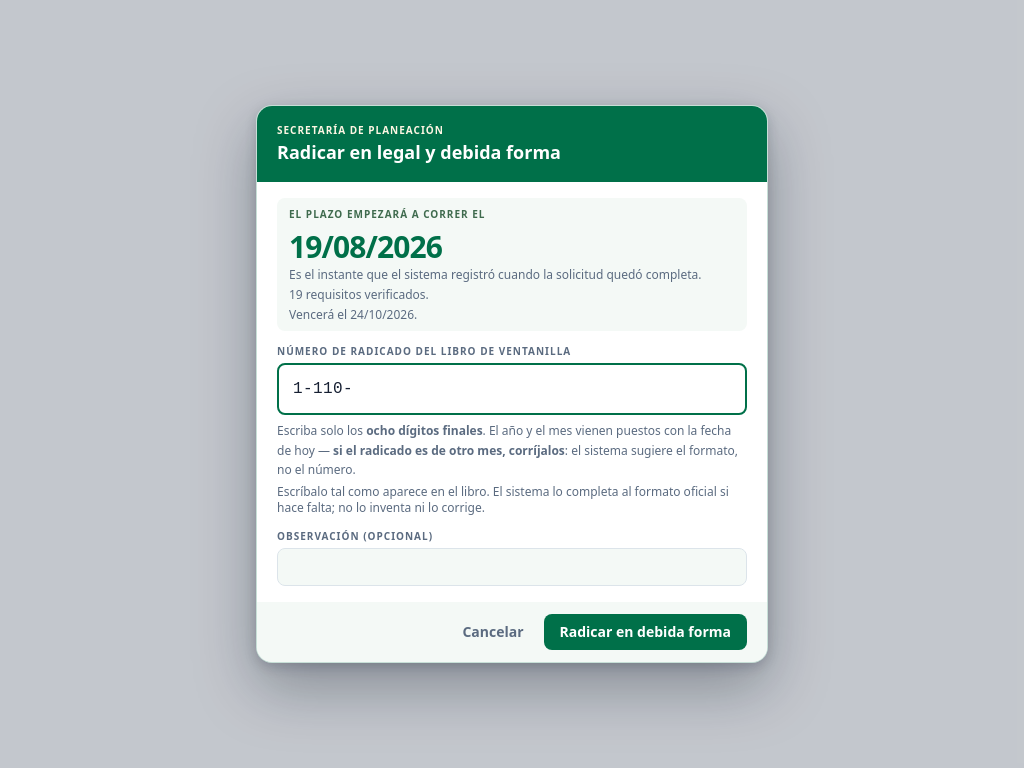
Test: el envío › un error del servidor se muestra TAL CUAL llega
The width and height of the screenshot is (1024, 768).
Step 1. Replace the text in the field labelled "Número de radicado del libro de ventanilla" with "123" → (512, 389), box left=277, top=363, right=747, bottom=415
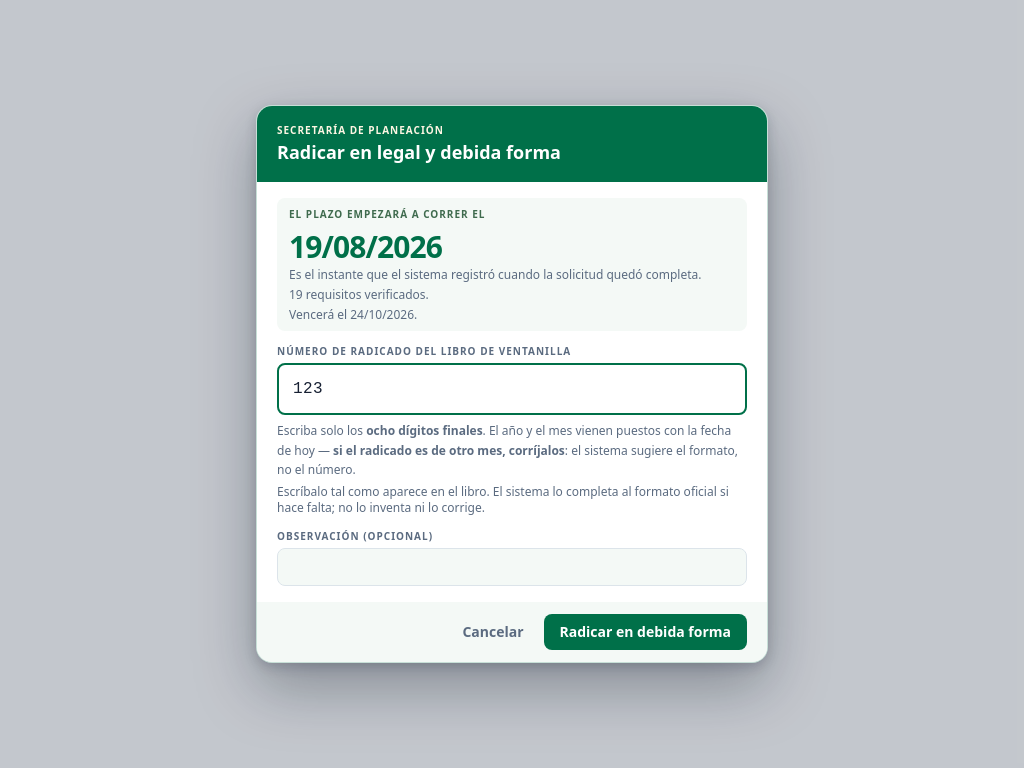
Step 2. Click the button "Radicar en debida forma" → (645, 632), box left=544, top=614, right=747, bottom=650
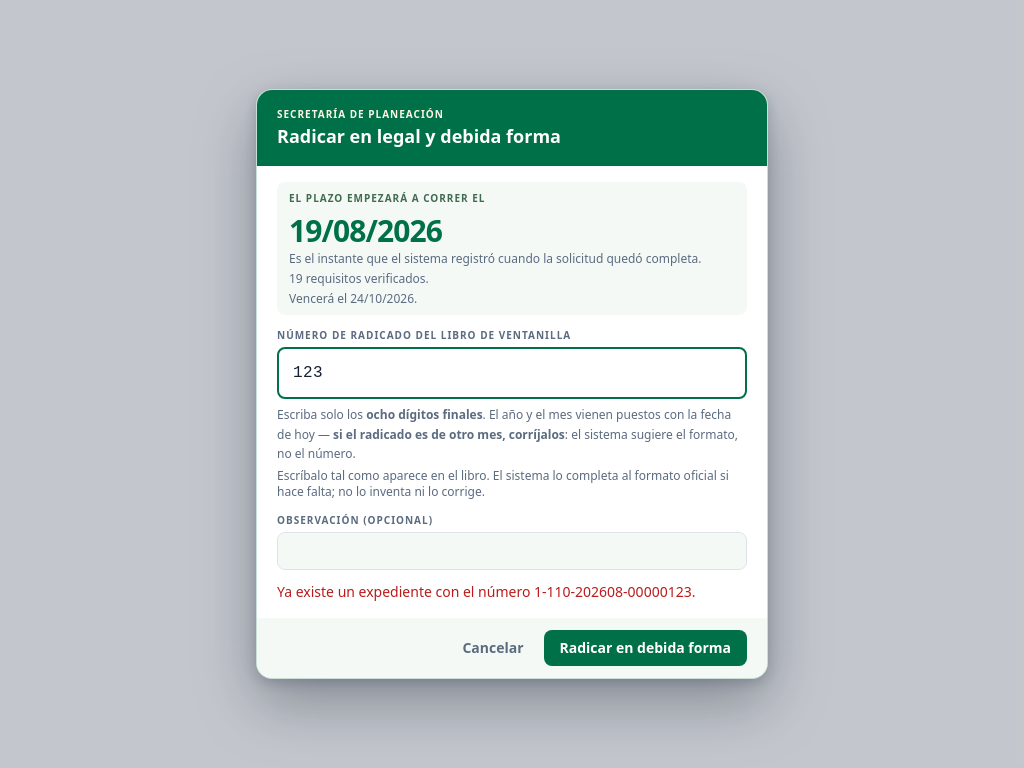
Check: the message reads "Ya existe un expediente con el número 1-110-202608-00000123.", box left=277, top=582, right=695, bottom=601
